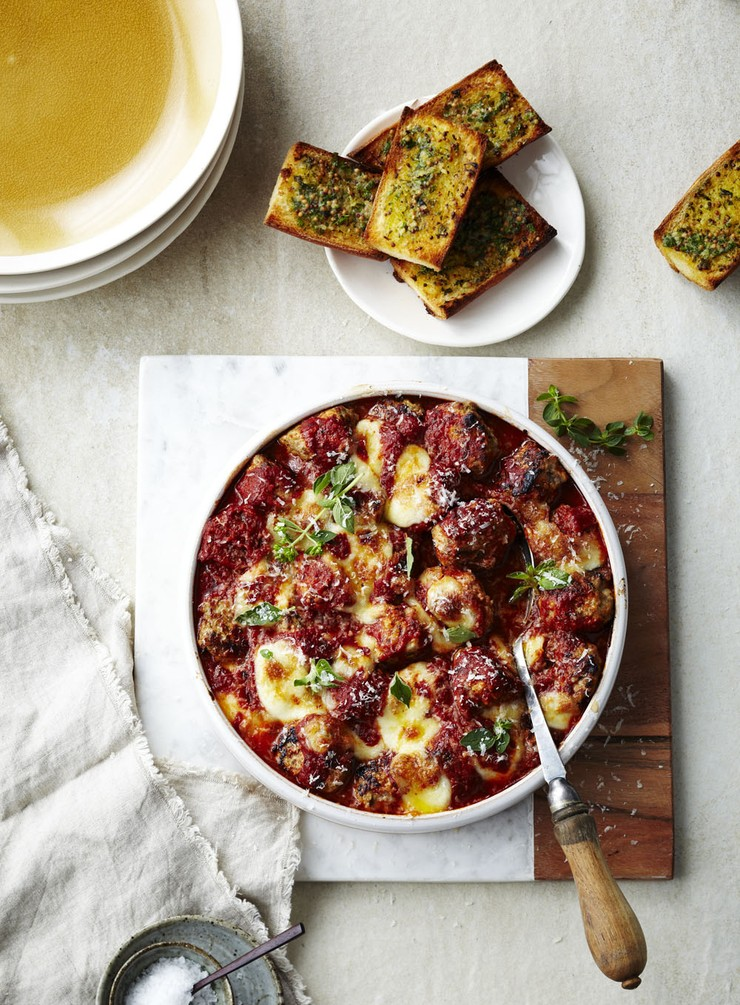meatballs: (250, 449, 592, 779)
slice of bread: (264, 59, 558, 304), (377, 101, 481, 277), (650, 145, 740, 328)
